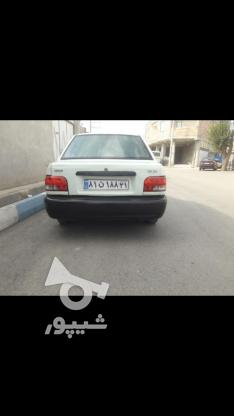car: (83, 177, 134, 188)
